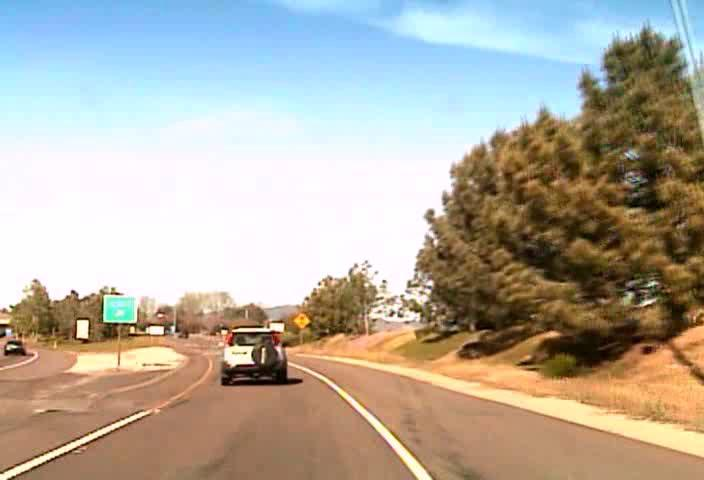signalAhead: (291, 312, 310, 329)
